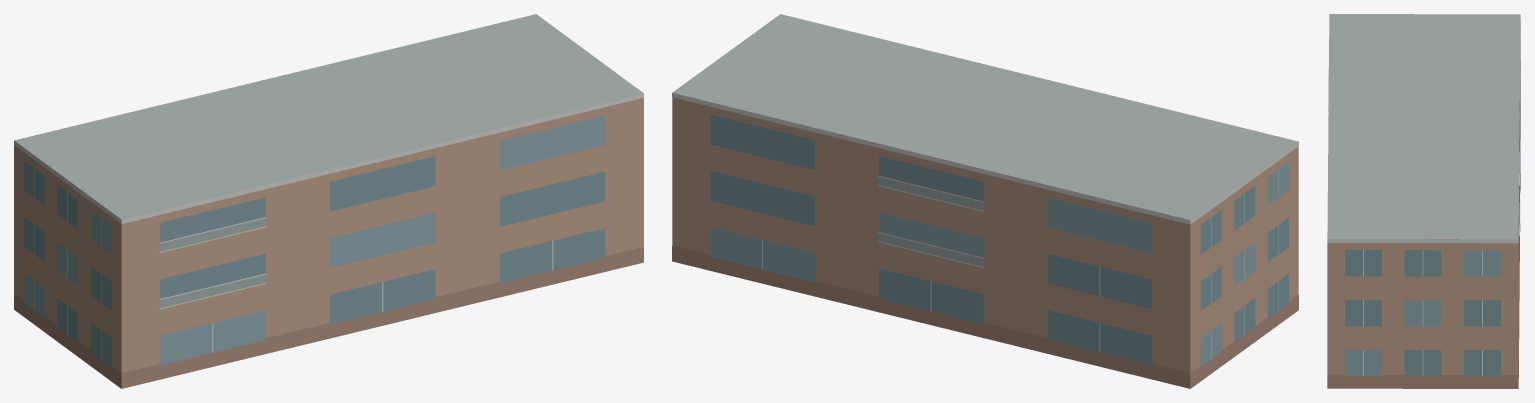
Rendered from survey-upis-32644584.glb.
3 renders of one model, left to right at view 1: azimuth 30°, elevation 25°; view 2: azimuth 150°, elevation 25°; view 3: azimuth 270°, elevation 25°, orthographic. The views are drawn at different scales.
Parts seen in each view (by area): view 1: survey-upis-32644584.tmp; view 2: survey-upis-32644584.tmp; view 3: survey-upis-32644584.tmp.
Part boxes in pixels (left/top/right/bottom): survey-upis-32644584.tmp: left=14, top=14, right=643, bottom=388; survey-upis-32644584.tmp: left=672, top=14, right=1298, bottom=388; survey-upis-32644584.tmp: left=1327, top=14, right=1520, bottom=388.
Bounding box in the file's own units: 29.53 × 9.15 × 10.71.
